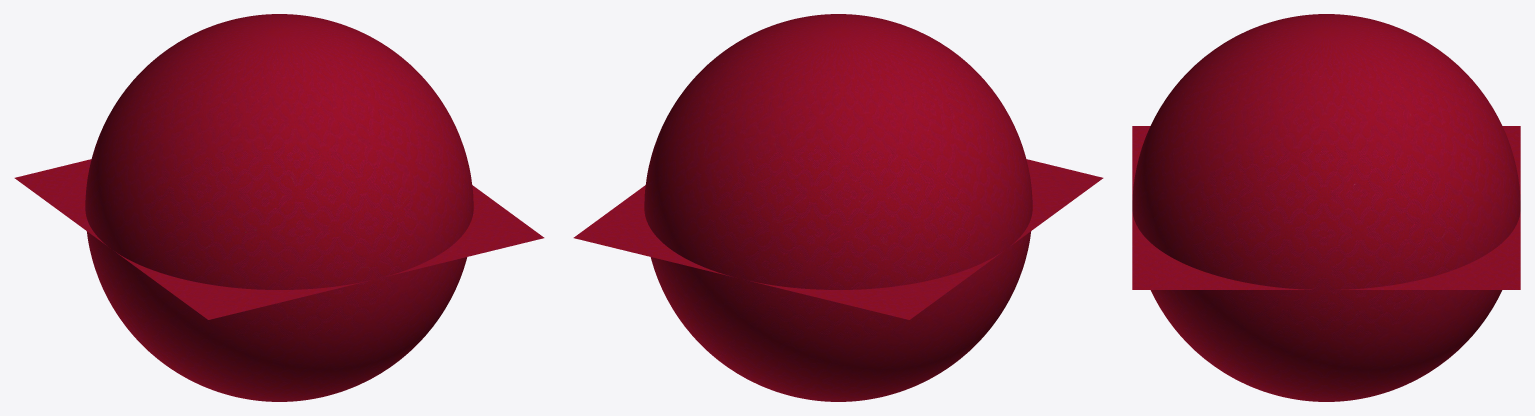
The model's file is quatrefoil_jacquard_fabric_2k.fbx.
3 views of the same model, side by side, from view 1: azimuth 30°, elevation 25°; view 2: azimuth 150°, elevation 25°; view 3: azimuth 270°, elevation 25° (orthographic).
Visible parts, largest first — view 1: Sphere, Plane; view 2: Sphere, Plane; view 3: Sphere, Plane.
Boxes of the visible parts, x1,y1,x2,y2 form: Sphere: (85,14,473,401); Plane: (14,159,544,319); Sphere: (644,14,1032,401); Plane: (573,159,1103,319); Sphere: (1132,14,1520,401); Plane: (1132,126,1520,289).
Bounding box in the file's own units: 28.38 × 28.38 × 28.38.
